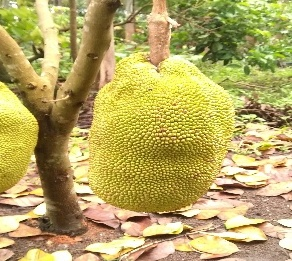Mit: (86, 52, 235, 213)
